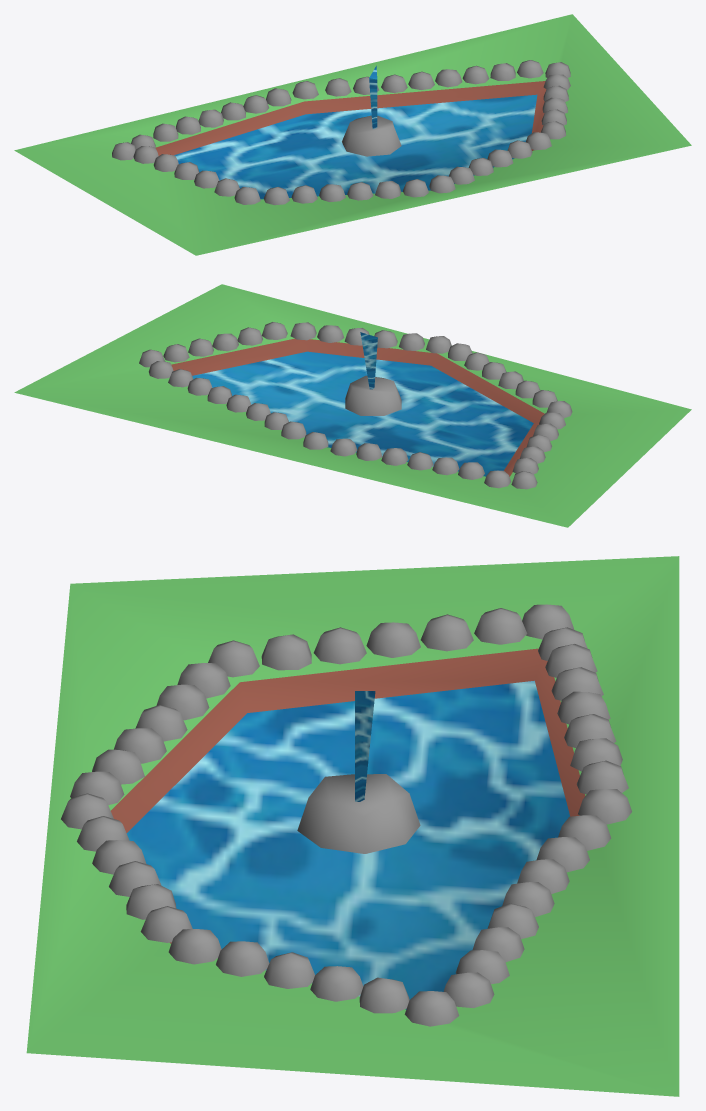
File: 12-lake.fbx
3 views of the same model, one above another, from view 1: azimuth 30°, elevation 25°; view 2: azimuth 150°, elevation 25°; view 3: azimuth 270°, elevation 25° (orthographic). The views are drawn at different scales.
Parts seen in each view (by area): view 1: 12-Llac; view 2: 12-Llac; view 3: 12-Llac.
Boxes of the visible parts, bbox=[...] form: 12-Llac: bbox=[14, 14, 691, 255]; 12-Llac: bbox=[14, 284, 691, 527]; 12-Llac: bbox=[26, 556, 679, 1096].
Bounding box in the file's own units: 414 × 57.22 × 211.
